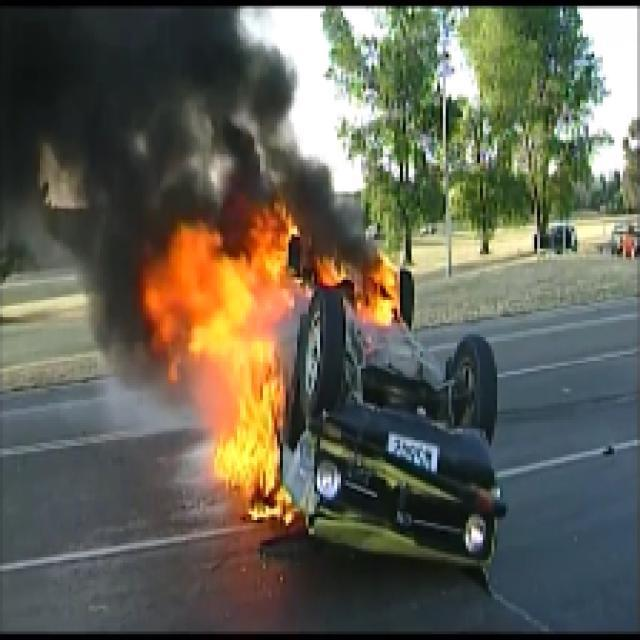Fire: (160, 231, 299, 510), (318, 254, 412, 322)
Smoke: (17, 4, 342, 225)
